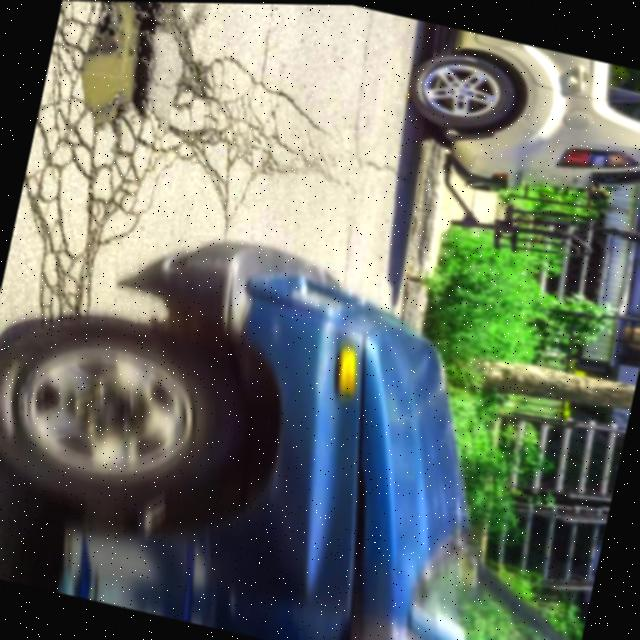Pothole: (58, 1, 183, 135)
